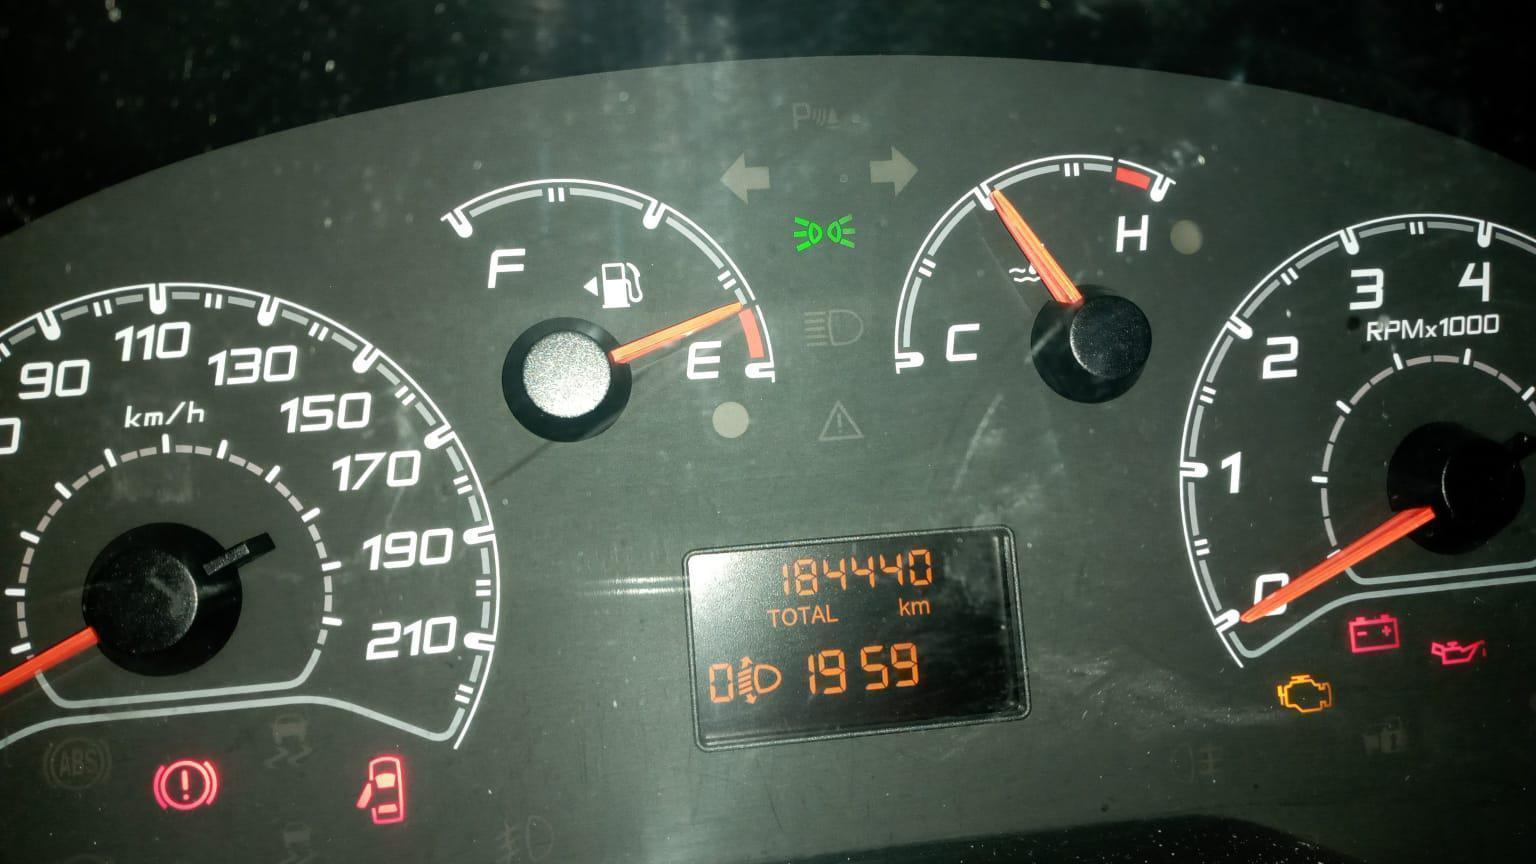0: (707, 661, 734, 705), (906, 548, 933, 585)
1: (806, 653, 817, 696), (780, 562, 791, 596)
4: (879, 552, 905, 587), (822, 558, 848, 592), (850, 555, 876, 590)
5: (859, 644, 889, 689)
8: (794, 558, 819, 596)
9: (818, 648, 848, 696), (890, 641, 921, 688)
X: (910, 599, 932, 616), (781, 606, 798, 626), (796, 604, 811, 627), (810, 604, 826, 625), (825, 603, 840, 625), (897, 597, 911, 617), (767, 607, 779, 628)
odometer: (677, 519, 1034, 756)
